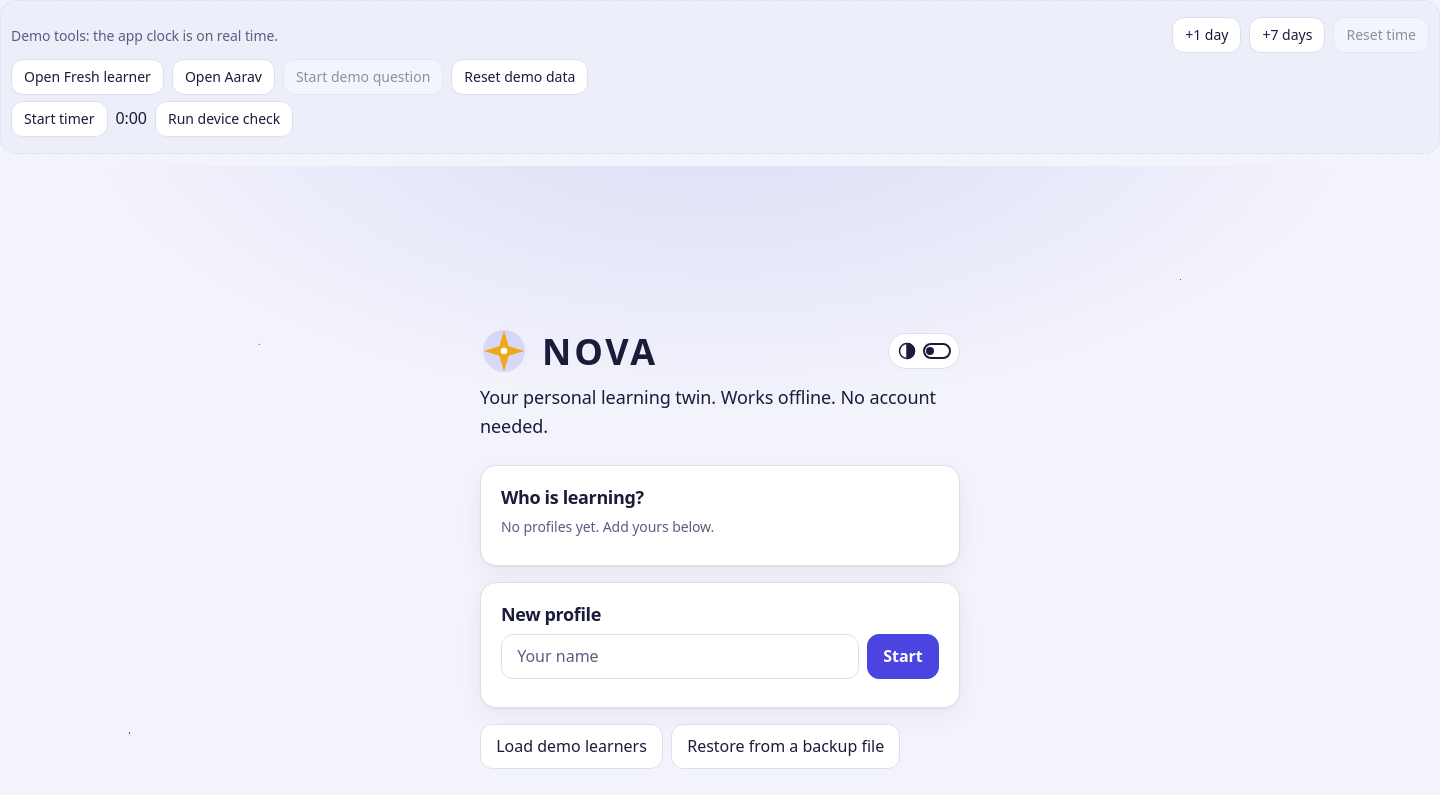
rehearsal timer › shows the running time and says whether the run was under 3 minutes
Expected: the element "Demo tools" is shown, [0,0,1439,154]
Click the button "Start timer" at (59,119), box [11,101,108,137]
Wait 600 ms
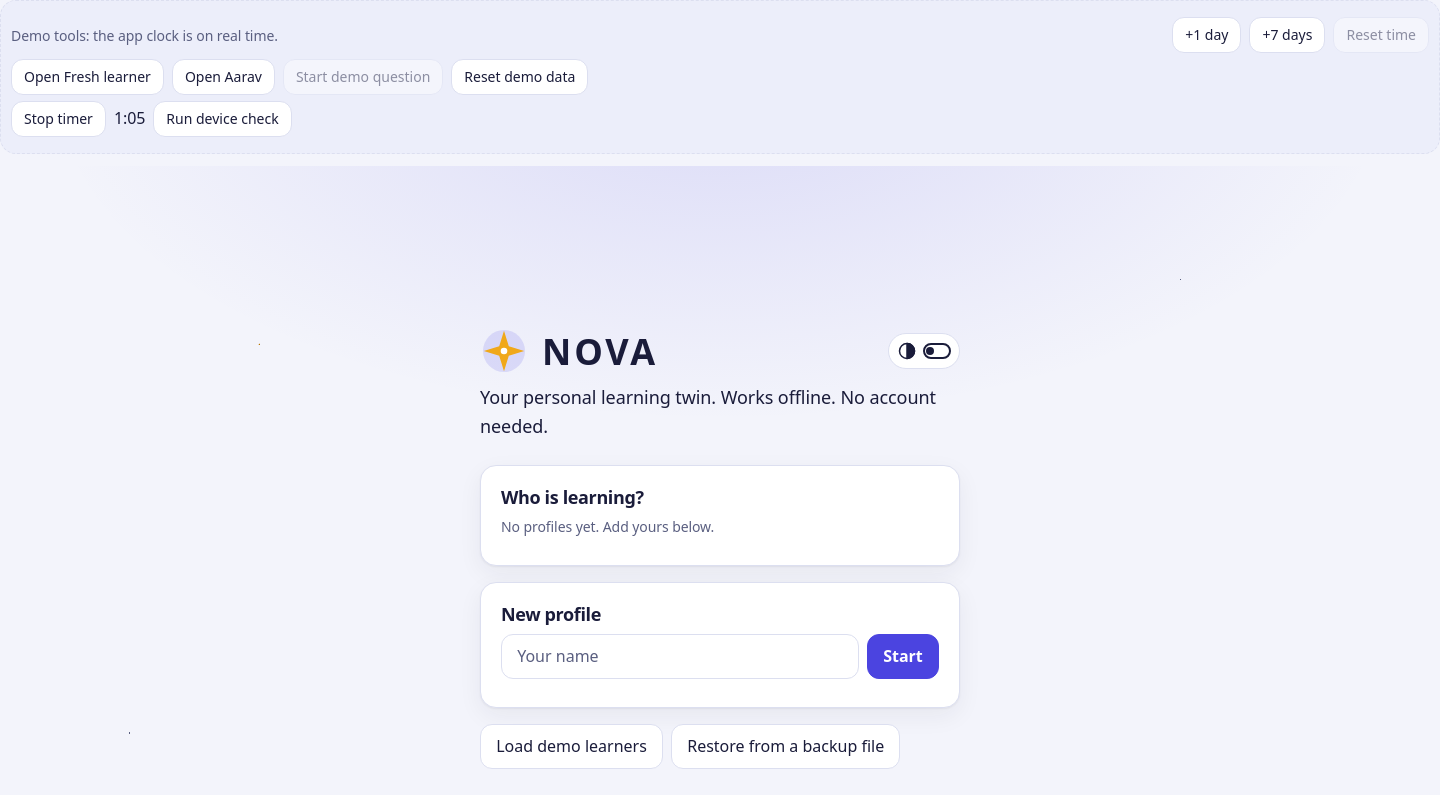
Result: the text named "Rehearsal timer" reads "1:05" at [114,107,145,129]
Click the button "Stop timer" at (58,119), box [11,101,106,137]
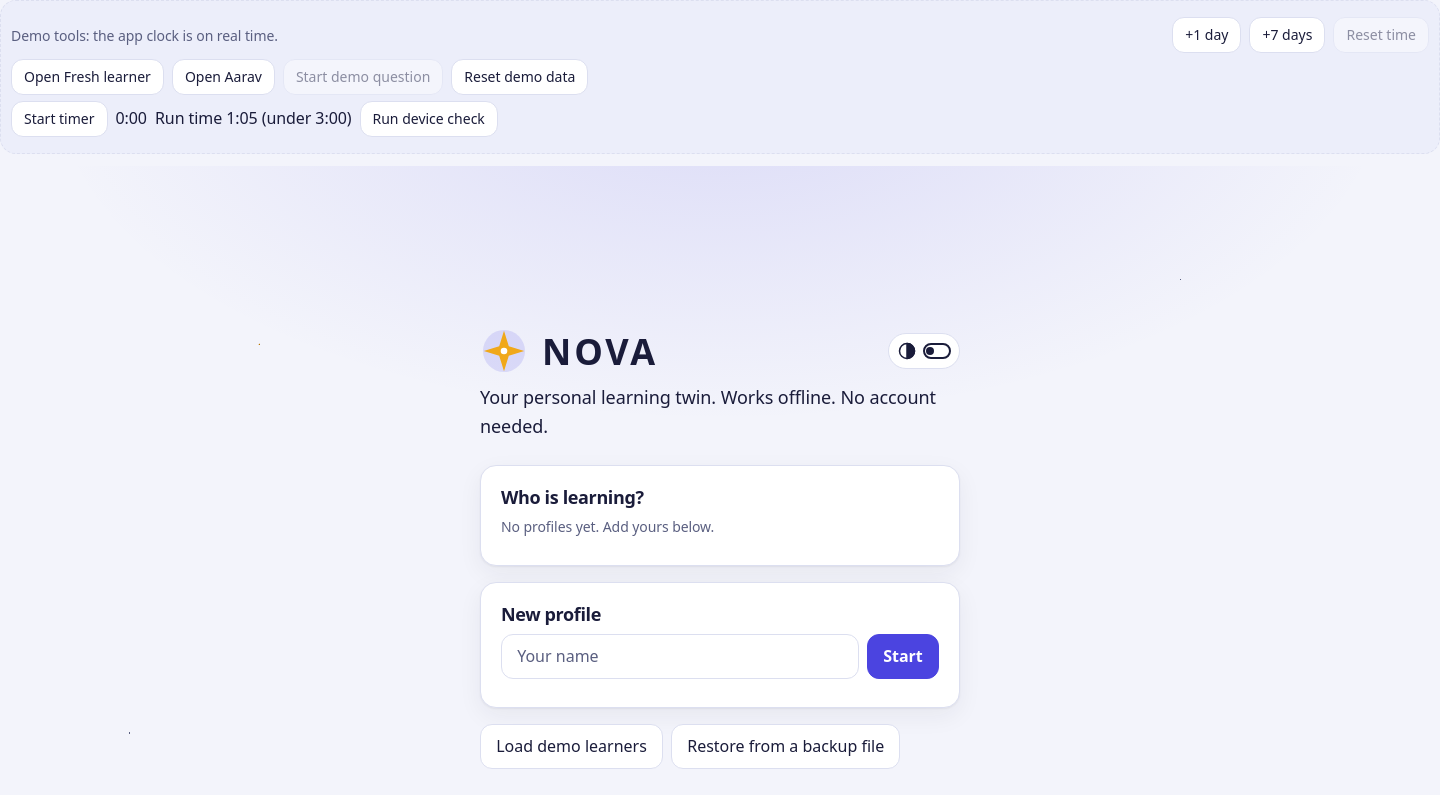
Result: the message "Run time 1:05 (under 3:00)" is shown at [155,106,352,132]
Click the button "Start timer" at (59,119), box [11,101,108,137]
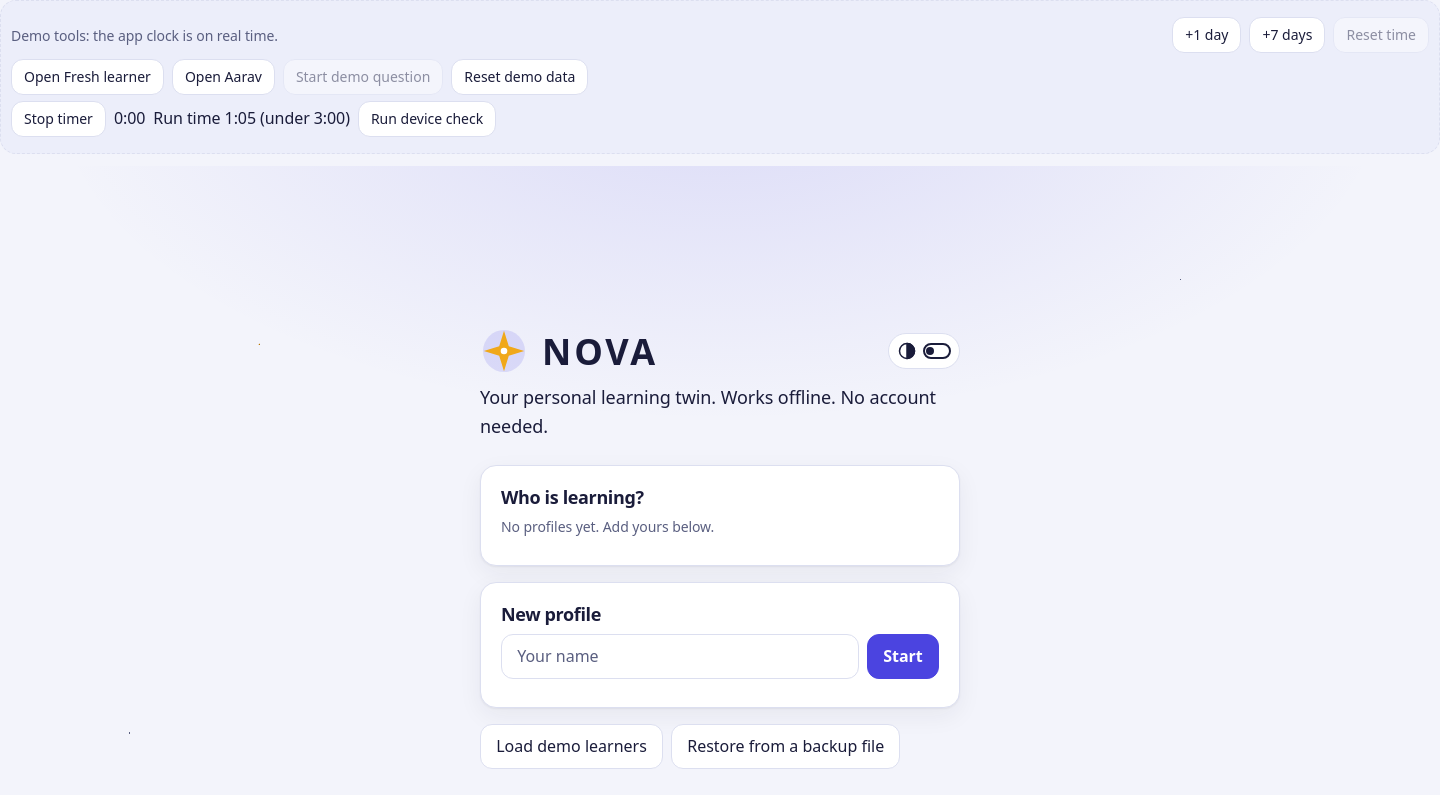
Click the button "Stop timer" at (58,119), box [11,101,106,137]
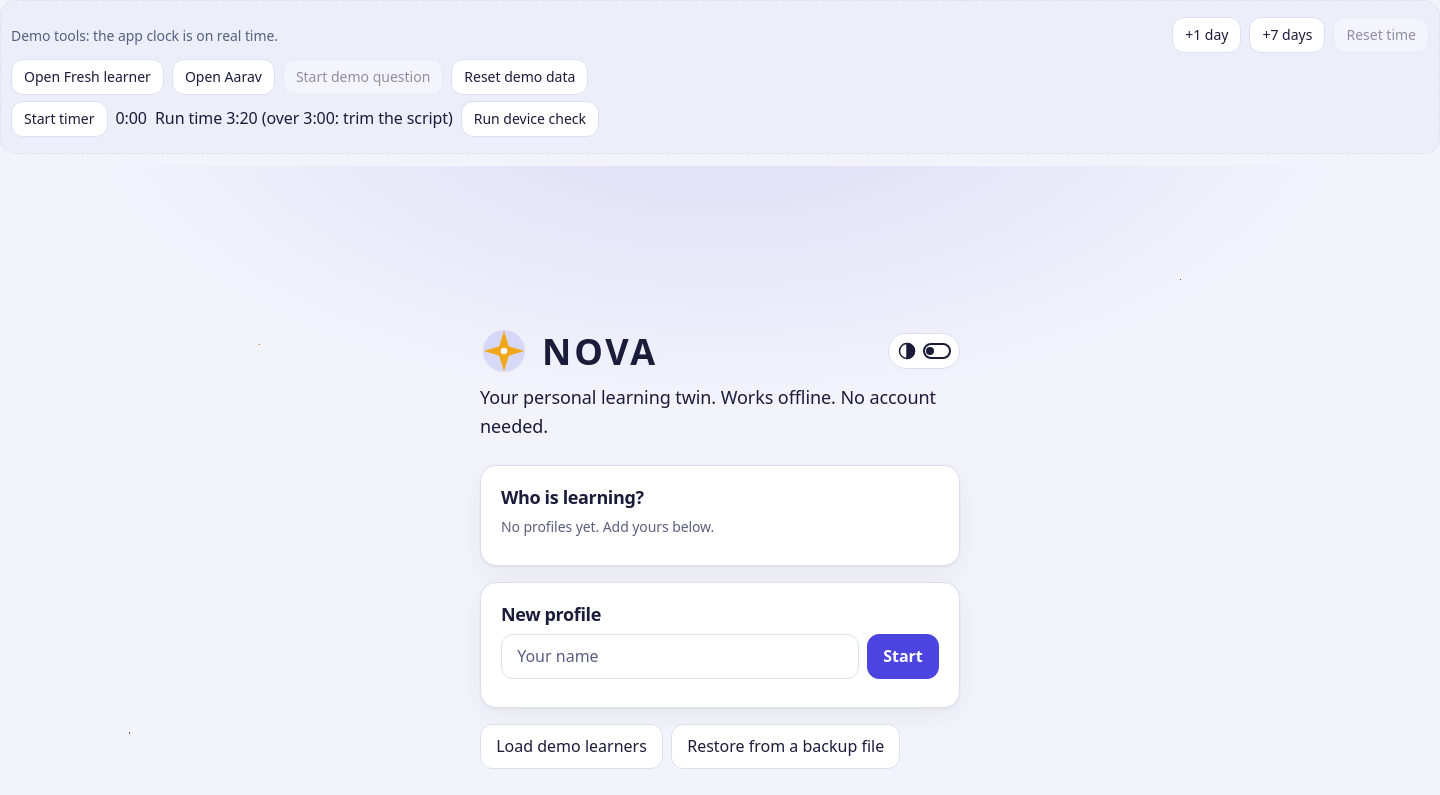
Result: the message "Run time 3:20 (over 3:00: trim the script)" is shown at [155,106,453,132]
